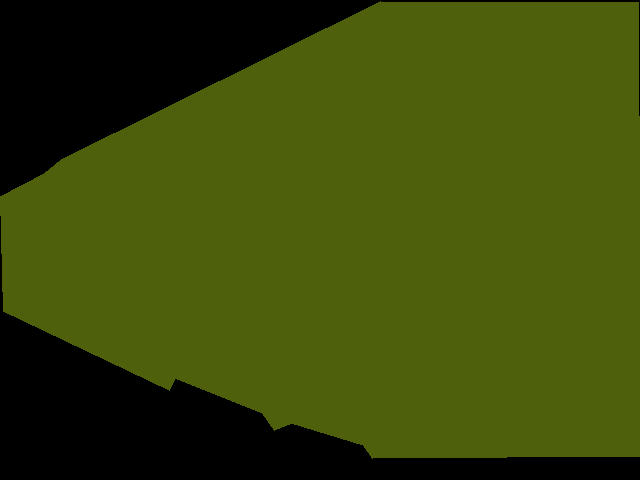Train: (0, 1, 640, 459)
